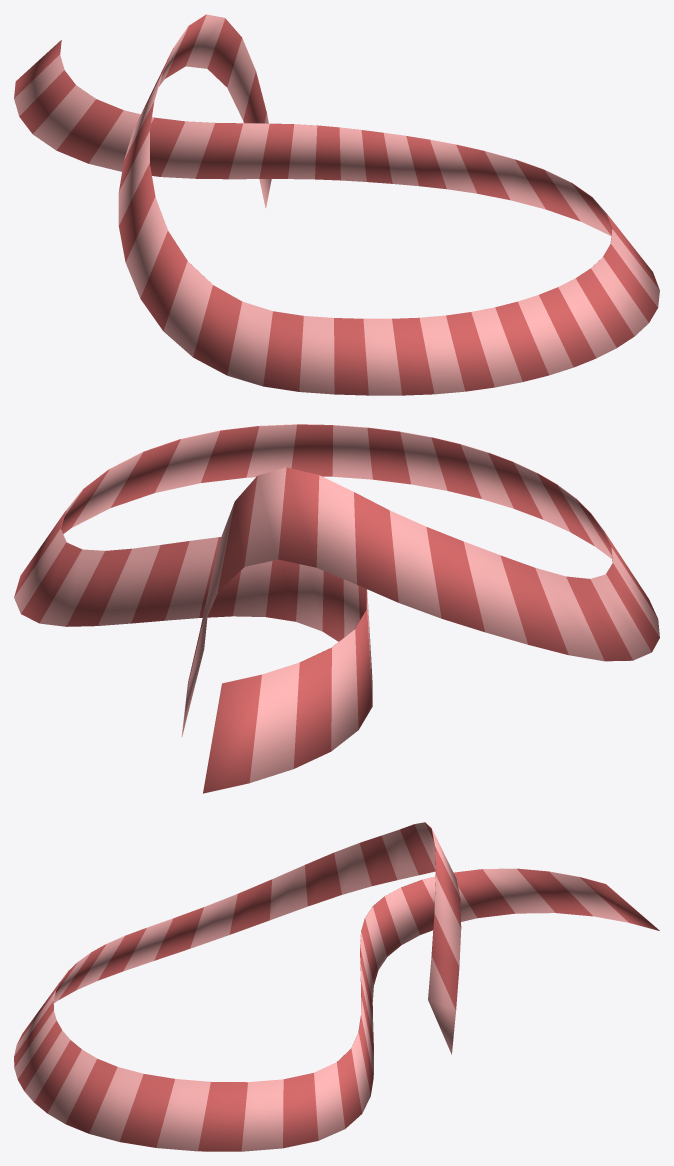
Rendered from Scarf.fbx.
3 views of the same model, one above another, from view 1: azimuth 30°, elevation 25°; view 2: azimuth 150°, elevation 25°; view 3: azimuth 270°, elevation 25° (orthographic). The views are drawn at different scales.
Visible parts, largest first — view 1: Scarf; view 2: Scarf; view 3: Scarf.
Boxes of the visible parts, x1=… form: Scarf: x1=14, y1=14, x2=659, y2=395; Scarf: x1=14, y1=424, x2=659, y2=793; Scarf: x1=14, y1=822, x2=659, y2=1151.
Bounding box in the file's own units: 11.24 × 5.17 × 15.46.
